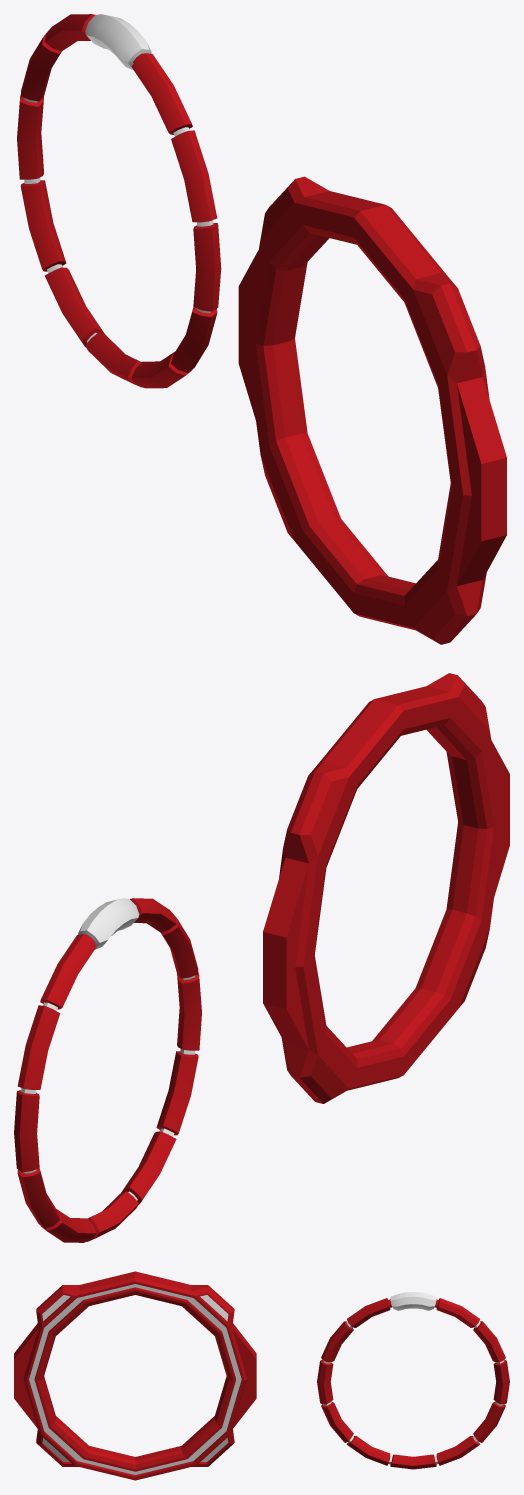
Rendered from SM_PointRing.fbx.
The picture shows the model from 3 angles, top to bottom: view 1: azimuth 30°, elevation 25°; view 2: azimuth 150°, elevation 25°; view 3: azimuth 270°, elevation 25°; orthographic projection. The views are drawn at different scales.
Visible parts, largest first — view 1: SM_PointRing_Air, SM_PointRing_Water; view 2: SM_PointRing_Air, SM_PointRing_Water; view 3: SM_PointRing_Air, SM_PointRing_Water.
Boxes of the visible parts, <box> form: SM_PointRing_Air: <box>238,176,506,644</box>; SM_PointRing_Water: <box>17,14,221,388</box>; SM_PointRing_Air: <box>263,673,509,1103</box>; SM_PointRing_Water: <box>14,898,201,1242</box>; SM_PointRing_Air: <box>14,1271,256,1480</box>; SM_PointRing_Water: <box>317,1292,509,1469</box>.
Size of the model in its own units: 101 by 661 by 1464.
